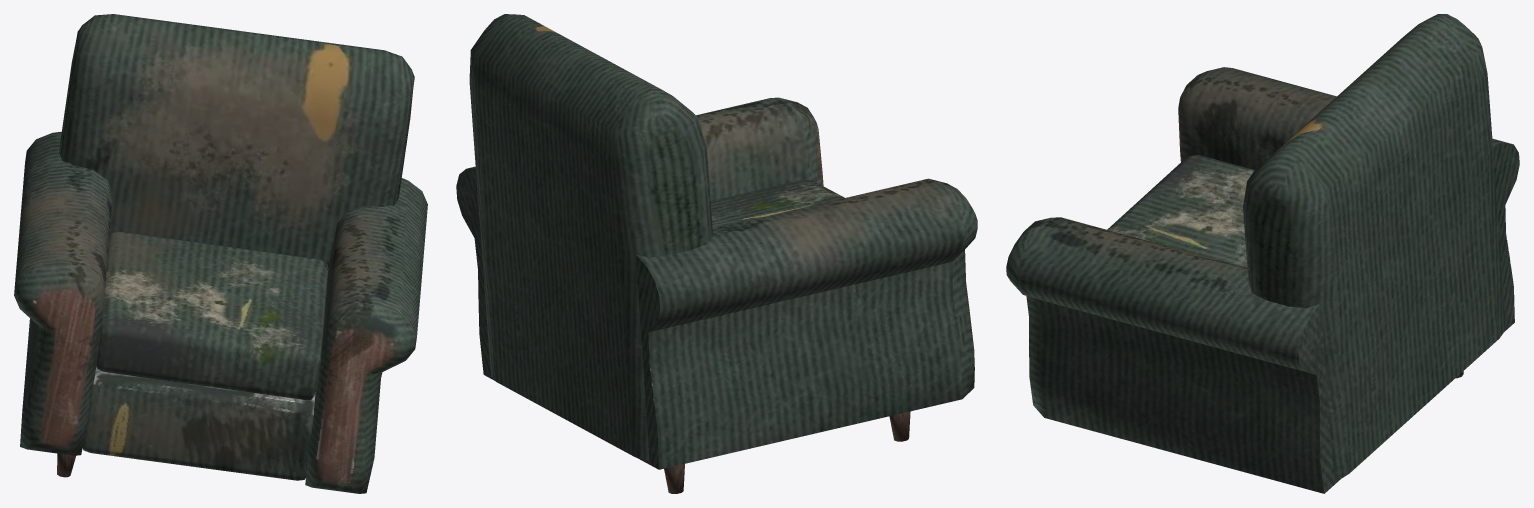
File: sofa.glb
3 renders of one model, left to right at view 1: azimuth 30°, elevation 25°; view 2: azimuth 150°, elevation 25°; view 3: azimuth 270°, elevation 25°, orthographic. The views are drawn at different scales.
Parts seen in each view (by area): view 1: tocut.002_Default OBJ.002_0; view 2: tocut.002_Default OBJ.002_0; view 3: tocut.002_Default OBJ.002_0.
Boxes of the visible parts, <box> form: tocut.002_Default OBJ.002_0: <box>14,14,427,493</box>; tocut.002_Default OBJ.002_0: <box>456,14,977,493</box>; tocut.002_Default OBJ.002_0: <box>1006,14,1519,493</box>.
Size of the model in its own units: 1261 by 975 by 1218.
Materials: 1 (1 with a texture image).
